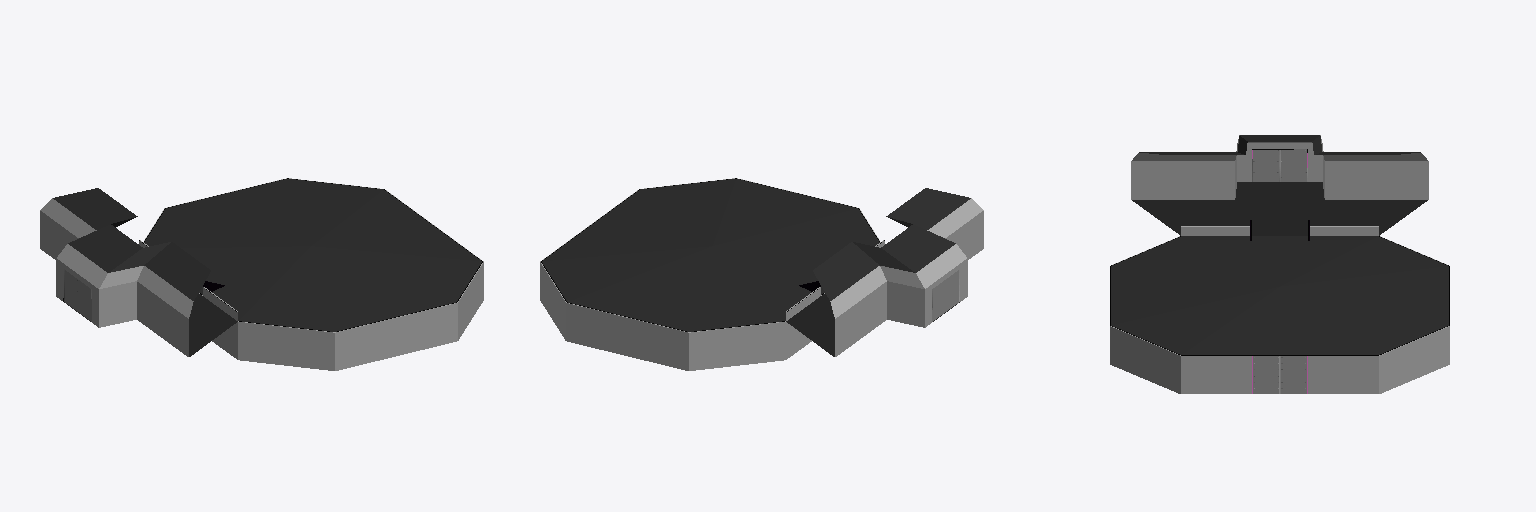
The picture shows the model from 3 angles: view 1: azimuth 30°, elevation 25°; view 2: azimuth 150°, elevation 25°; view 3: azimuth 270°, elevation 25°; orthographic projection.
Parts seen in each view (by area): view 1: Gallery_Gallery_Roof, Gallery_Gallery_Walls, TopFloorFront_TopFloor_Walls.001, TopFloorFront_TopFloor_Roof.002, TopFloorFront_TopFloor_TopFloor.005, TopFloorFront_TopFloor_Door; view 2: Gallery_Gallery_Roof, Gallery_Gallery_Walls, TopFloorFront_TopFloor_Walls.001, TopFloorFront_TopFloor_Roof.002, TopFloorFront_TopFloor_TopFloor.005, TopFloorFront_TopFloor_Door; view 3: Gallery_Gallery_Roof, TopFloorFront_TopFloor_Walls.001, Gallery_Gallery_Walls, TopFloorFront_TopFloor_TopFloor.005, Gallery_Gallery_Door, TopFloorFront_TopFloor_Door, TopFloorFront_TopFloor_Roof.002.
Boxes of the visible parts, box(x1,y1,x2,y2) form: Gallery_Gallery_Roof: box(144, 179, 481, 331); Gallery_Gallery_Walls: box(144, 178, 483, 370); TopFloorFront_TopFloor_Walls.001: box(40, 198, 237, 356); TopFloorFront_TopFloor_Roof.002: box(53, 188, 210, 300); TopFloorFront_TopFloor_TopFloor.005: box(64, 293, 237, 356); TopFloorFront_TopFloor_Door: box(64, 269, 91, 321); Gallery_Gallery_Roof: box(542, 179, 879, 331); Gallery_Gallery_Walls: box(540, 178, 879, 370); TopFloorFront_TopFloor_Walls.001: box(786, 198, 983, 356); TopFloorFront_TopFloor_Roof.002: box(813, 188, 970, 300); TopFloorFront_TopFloor_TopFloor.005: box(786, 293, 959, 356); TopFloorFront_TopFloor_Door: box(932, 270, 959, 321); Gallery_Gallery_Roof: box(1111, 236, 1448, 354); TopFloorFront_TopFloor_Walls.001: box(1131, 135, 1428, 235); Gallery_Gallery_Walls: box(1110, 236, 1449, 393); TopFloorFront_TopFloor_TopFloor.005: box(1132, 182, 1427, 235); Gallery_Gallery_Door: box(1252, 356, 1307, 393); TopFloorFront_TopFloor_Door: box(1252, 149, 1307, 181); TopFloorFront_TopFloor_Roof.002: box(1139, 135, 1420, 154).
Size of the model in its own units: 29 by 8 by 24.
11 materials, 1 textured.